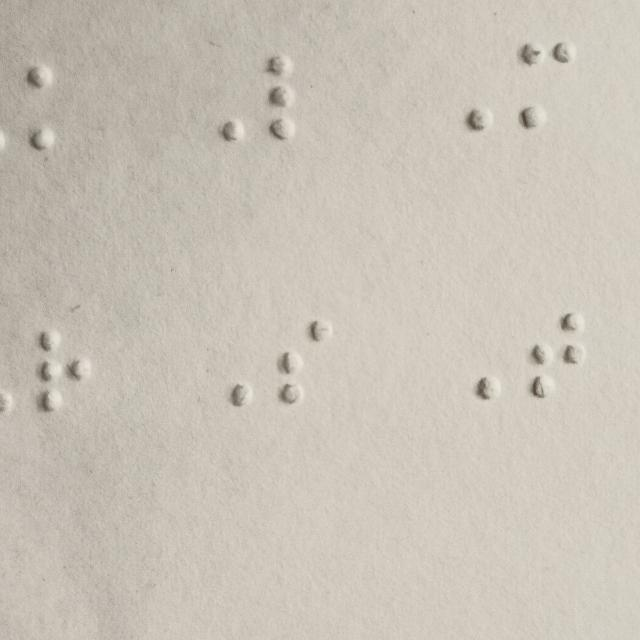L: (266, 55, 327, 146)
M: (515, 41, 576, 132)
S: (272, 316, 333, 407)
T: (526, 311, 587, 402)
capital: (436, 41, 497, 132), (447, 313, 507, 405), (187, 53, 247, 144), (196, 320, 256, 411)
k: (26, 63, 87, 154)
r: (34, 329, 95, 420)
